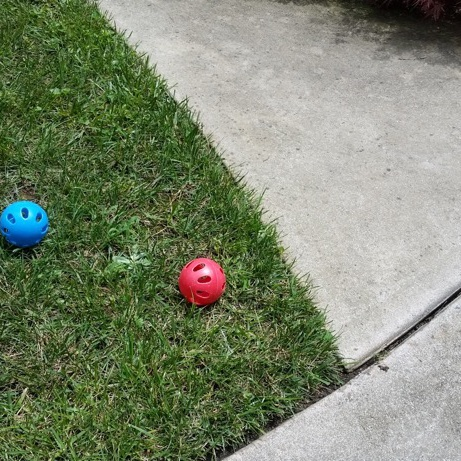ball: (0, 197, 53, 252), (175, 253, 228, 307)
